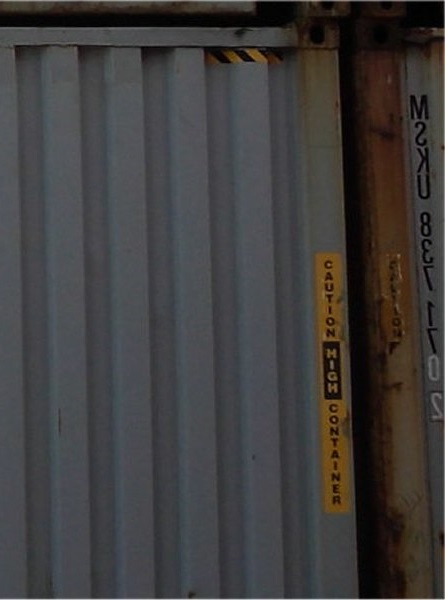container_no_door: (2, 18, 340, 600)
